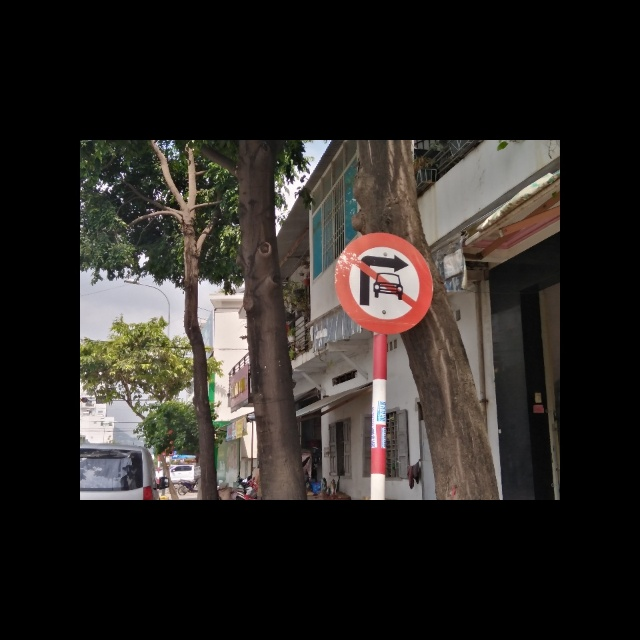Cấm xe ô tô rẽ trái: (332, 231, 433, 335)
